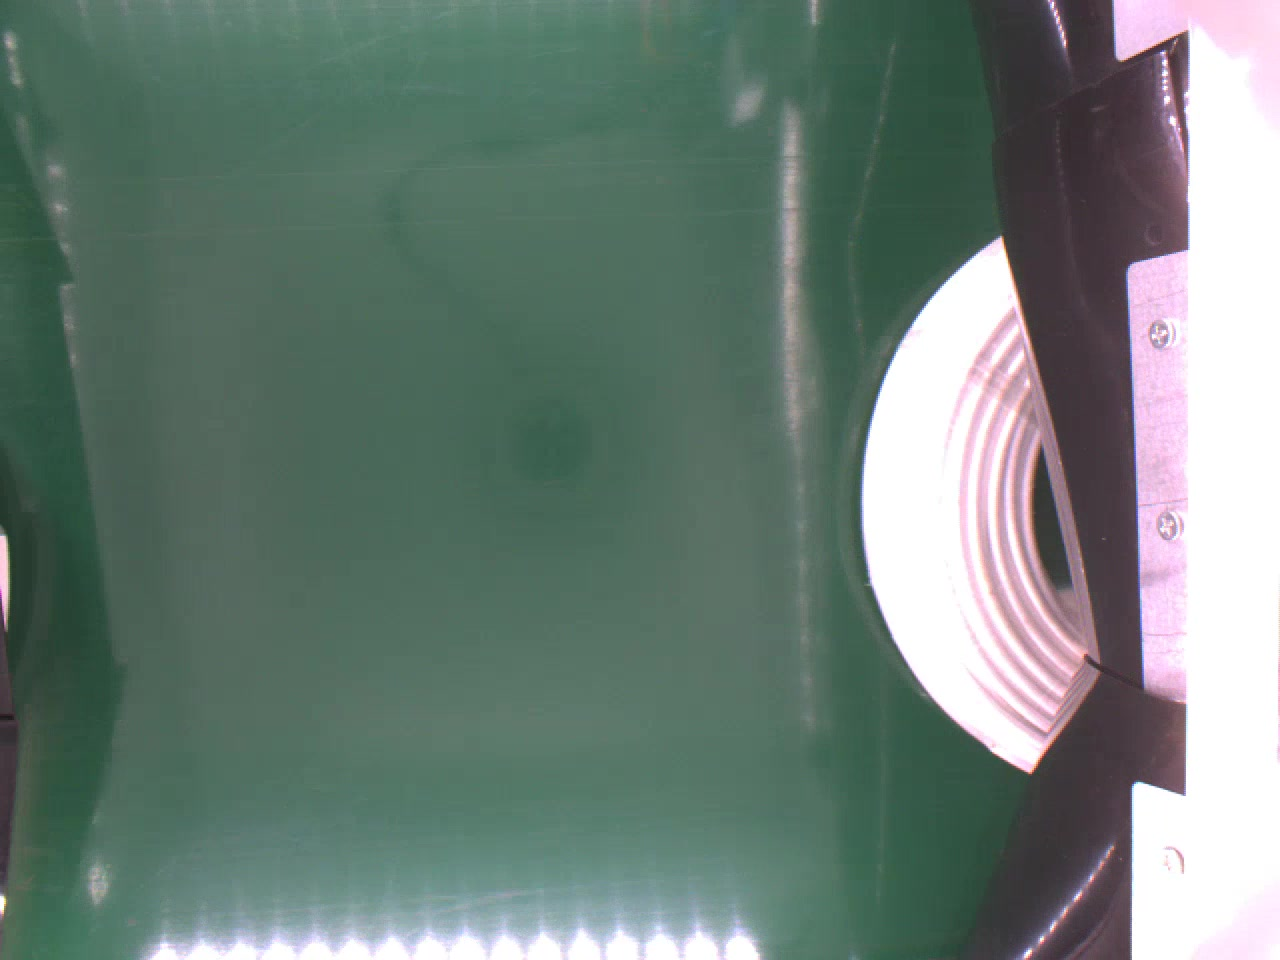white: (854, 235, 1089, 763)
